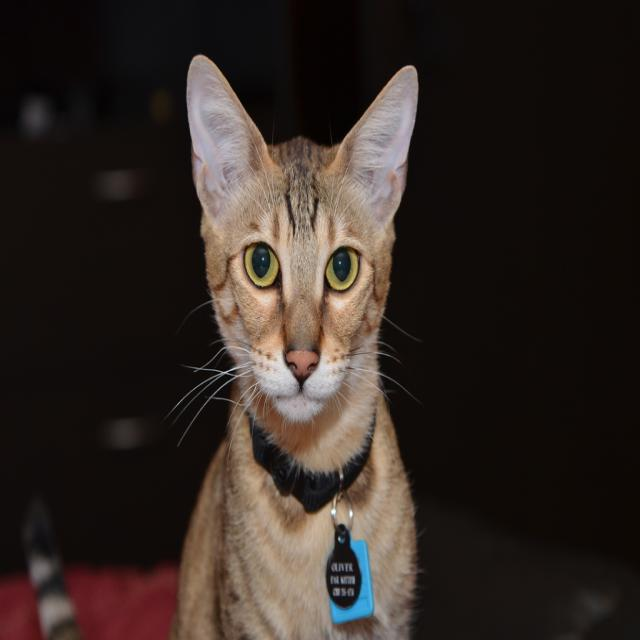Cat: (19, 53, 428, 639)
